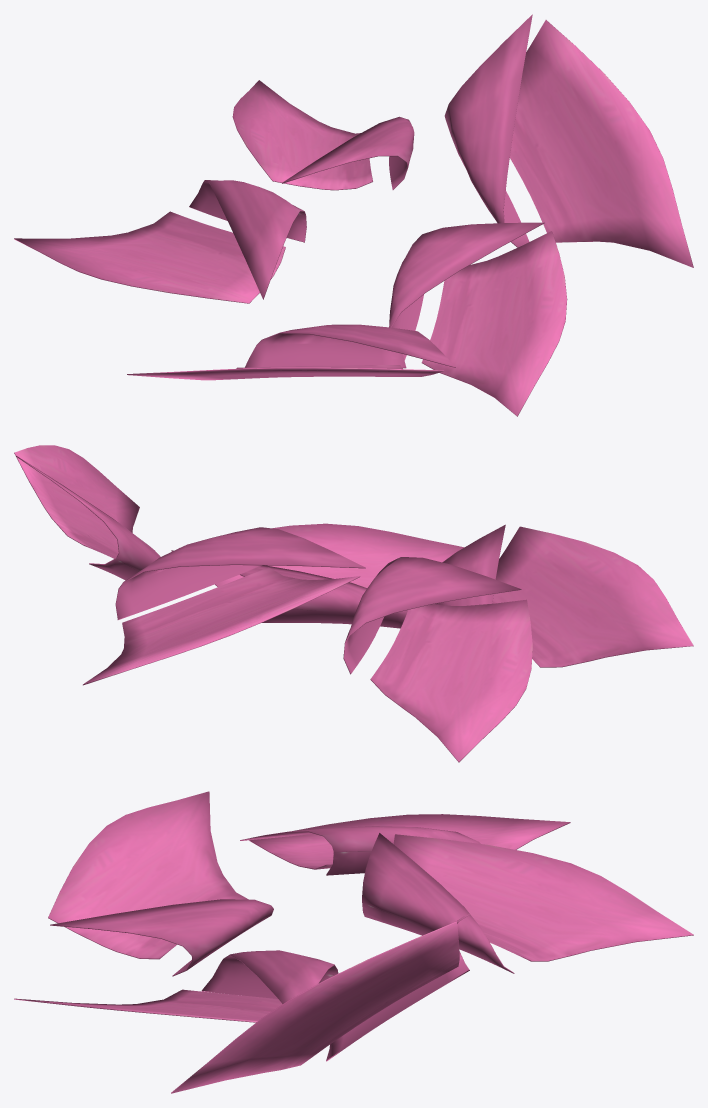
The model's file is FlorCataVento_cortada.fbx.
3 views of the same model, one above another, from view 1: azimuth 30°, elevation 25°; view 2: azimuth 150°, elevation 25°; view 3: azimuth 270°, elevation 25° (orthographic). The views are drawn at different scales.
Visible parts, largest first — view 1: FlorCatavento_cortada; view 2: FlorCatavento_cortada; view 3: FlorCatavento_cortada.
Boxes of the visible parts, <box> form: FlorCatavento_cortada: <box>14,14,693,416</box>; FlorCatavento_cortada: <box>14,445,693,762</box>; FlorCatavento_cortada: <box>14,791,693,1093</box>.
Bounding box in the file's own units: 247 × 82.53 × 242.
Materials: 1 (1 with a texture image).
